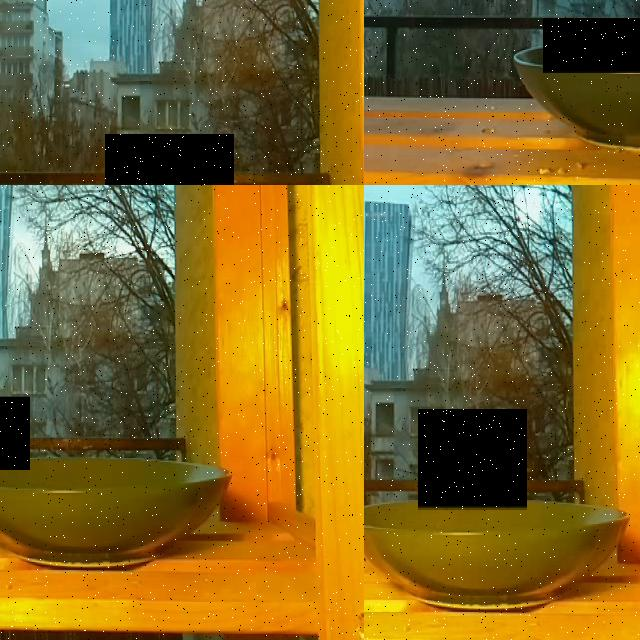Modraszka: (418, 410, 527, 510), (105, 134, 234, 185), (543, 18, 640, 72), (0, 396, 30, 470)
